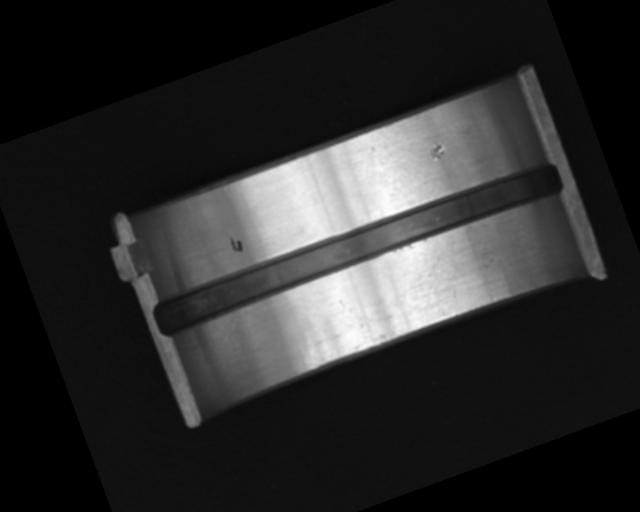blot: (227, 233, 245, 256)
bruise: (425, 139, 448, 163)
gap: (149, 153, 566, 339)
